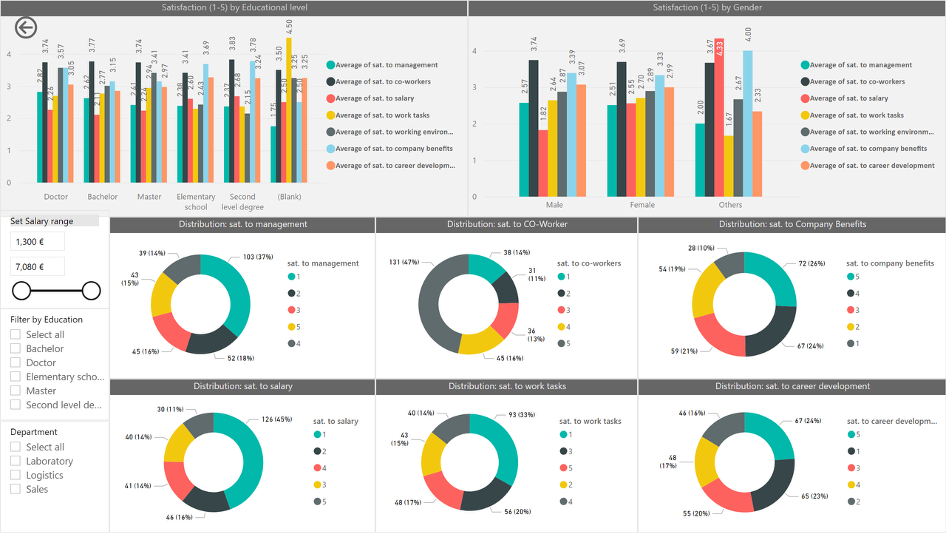

Layout of this report page (visuals, bound fields, positions):
{"tool":"powerbi","page":{"name":"Satisfaction Distribution cont","canvas":[1280,720],"ordinal":3},"visuals":[{"type":"clusteredColumnChart","title":"Satisfaction (1-5) by Educational level","fields":{"Y":["Avg(Data.sat. to management)","Avg(Data.sat. to co-workers)","Avg(Data.sat. to salary)","Avg(Data.sat. to work tasks)","Avg(Data.sat. to working environment)","Avg(Data.sat. to company benefits)","Avg(Data.sat. to career development)"],"Category":["Data.education_level"]},"box":[0,0,633.2,292.8],"z":0},{"type":"clusteredColumnChart","title":"Satisfaction (1-5) by Gender","fields":{"Y":["Avg(Data.sat. to management)","Avg(Data.sat. to co-workers)","Avg(Data.sat. to salary)","Avg(Data.sat. to work tasks)","Avg(Data.sat. to working environment)","Avg(Data.sat. to company benefits)","Avg(Data.sat. to career development)"],"Category":["Data.gender"]},"box":[633.2,0,646.8,292.8],"z":1000},{"type":"donutChart","title":"Distribution: sat. to management","fields":{"Y":["CountNonNull(Data.sat. to management)"],"Category":["Data.sat. to management"]},"box":[147.8,292.8,359.9,218.8],"z":2000},{"type":"donutChart","title":"Distribution: sat. to CO-Worker","fields":{"Y":["CountNonNull(Data.sat. to co-workers)"],"Category":["Data.sat. to co-workers"]},"box":[507.7,292.8,355,218.8],"z":3000},{"type":"donutChart","title":"Distribution: sat. to Company Benefits","fields":{"Y":["CountNonNull(Data.sat. to company benefits)"],"Category":["Data.sat. to company benefits"]},"box":[862.7,292.8,417.3,218.8],"z":4000},{"type":"donutChart","title":"Distribution: sat. to salary","fields":{"Y":["CountNonNull(Data.sat. to salary)"],"Category":["Data.sat. to salary"]},"box":[147.8,511.6,359.9,208.1],"z":5000},{"type":"donutChart","title":"Distribution: sat. to work tasks","fields":{"Y":["CountNonNull(Data.sat. to work tasks)"],"Category":["Data.sat. to work tasks"]},"box":[507.7,511.6,355,208.1],"z":6000},{"type":"donutChart","title":"Distribution: sat. to career development","fields":{"Y":["CountNonNull(Data.sat. to career development)"],"Category":["Data.sat. to career development"]},"box":[862.7,511.6,417.3,208.1],"z":7000},{"type":"slicer","fields":{"Values":["Data.salary"]},"box":[0,284,147.8,133.3],"z":8000},{"type":"slicer","fields":{"Values":["Data.education_level"]},"box":[0,417.3,147.8,151.7],"z":9000},{"type":"slicer","fields":{"Values":["Data.department"]},"box":[0,569,147.8,150.8],"z":10000},{"type":"actionButton","box":[15.2,17,64.5,40.3],"z":11000}]}

Visuals, with their boxes in screenshot pixels (x1, y1, x2, y2), scaled from the page's 1280x720 canvas onto the 946x540 screenshot:
"Satisfaction (1-5) by Educational level" clusteredColumnChart: 0:0:468:220
"Satisfaction (1-5) by Gender" clusteredColumnChart: 468:0:945:220
"Distribution: sat. to management" donutChart: 109:220:375:384
"Distribution: sat. to CO-Worker" donutChart: 375:220:638:384
"Distribution: sat. to Company Benefits" donutChart: 638:220:945:384
"Distribution: sat. to salary" donutChart: 109:384:375:539
"Distribution: sat. to work tasks" donutChart: 375:384:638:539
"Distribution: sat. to career development" donutChart: 638:384:945:539
slicer - Data.salary: 0:213:109:313
slicer - Data.education_level: 0:313:109:427
slicer - Data.department: 0:427:109:539
actionButton: 11:13:59:43
